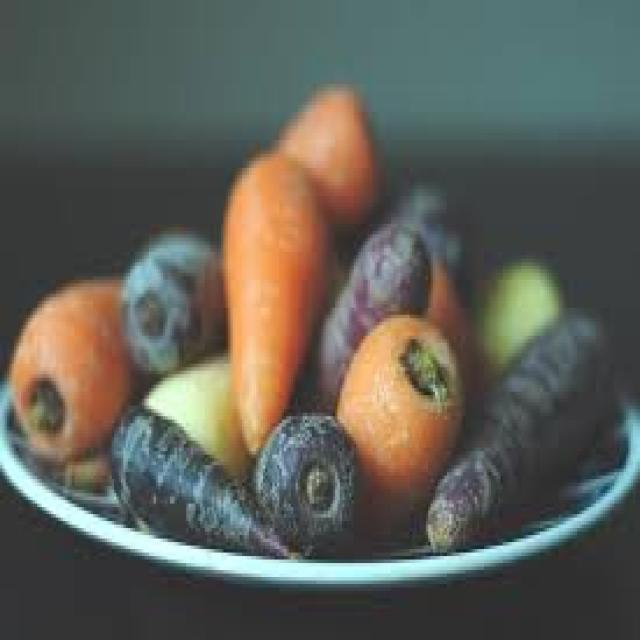Fresh_Carrot: (224, 150, 325, 454)
Stale_Carrot: (426, 316, 595, 549), (113, 406, 287, 555), (336, 316, 463, 504), (320, 224, 431, 394), (254, 415, 356, 556), (124, 233, 224, 375)
